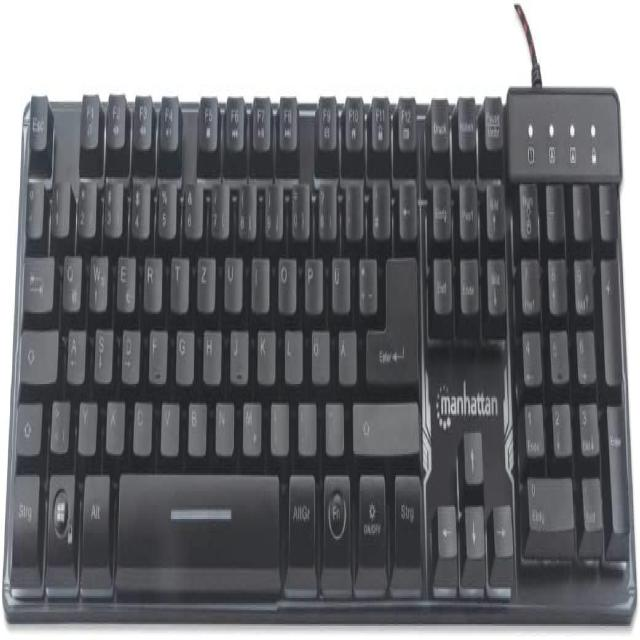0: (288, 175, 308, 235)
1: (47, 174, 69, 235)
2: (74, 172, 95, 235)
3: (100, 172, 122, 235)
4: (128, 172, 149, 235)
5: (155, 174, 176, 235)
6: (181, 174, 202, 233)
7: (208, 174, 227, 235)
8: (234, 174, 255, 237)
9: (262, 174, 281, 235)
a: (64, 321, 84, 379)
accent: (344, 177, 365, 240)
ae: (335, 323, 355, 381)
alt-left: (79, 465, 109, 577)
altgr-right: (285, 468, 314, 572)
b: (185, 395, 205, 451)
c: (130, 393, 150, 451)
caret: (24, 174, 42, 233)
comma: (268, 395, 287, 451)
d: (119, 321, 138, 379)
del: (396, 176, 417, 239)
e: (114, 247, 133, 307)
enter: (364, 244, 417, 389)
f: (147, 321, 166, 379)
g: (173, 321, 192, 379)
h: (201, 323, 220, 379)
hash: (371, 177, 391, 240)
i: (249, 249, 268, 307)
j: (228, 321, 247, 380)
k: (255, 321, 274, 379)
keyboard: (0, 70, 637, 616)
l: (282, 321, 301, 379)
less: (48, 391, 68, 449)
m: (240, 393, 259, 451)
minus: (323, 395, 342, 451)
n: (213, 395, 232, 451)
o: (275, 247, 294, 309)
oe: (309, 323, 328, 379)
p: (302, 249, 321, 309)
plus: (355, 247, 375, 309)
point: (296, 394, 315, 449)
q: (59, 245, 80, 307)
r: (140, 247, 160, 305)
s: (92, 321, 111, 379)
shift-left: (14, 395, 41, 453)
shift-lock: (17, 323, 57, 381)
shift-right: (351, 395, 418, 451)
space: (115, 462, 281, 581)
ss: (315, 174, 335, 237)
strg-left: (9, 467, 40, 579)
strg-right: (391, 470, 421, 575)
t: (168, 247, 187, 307)
tab: (21, 247, 53, 309)
u: (221, 247, 241, 307)
ue: (329, 247, 348, 309)
v: (158, 395, 178, 451)
w: (86, 245, 106, 307)
x: (103, 393, 123, 449)
y: (76, 395, 95, 451)
z: (195, 247, 214, 307)
